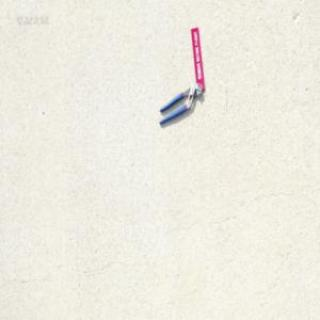LuggageTagtrack_idkeyframe: (189, 27, 204, 91)
Pliertrack_idkeyframe: (158, 81, 202, 125)
